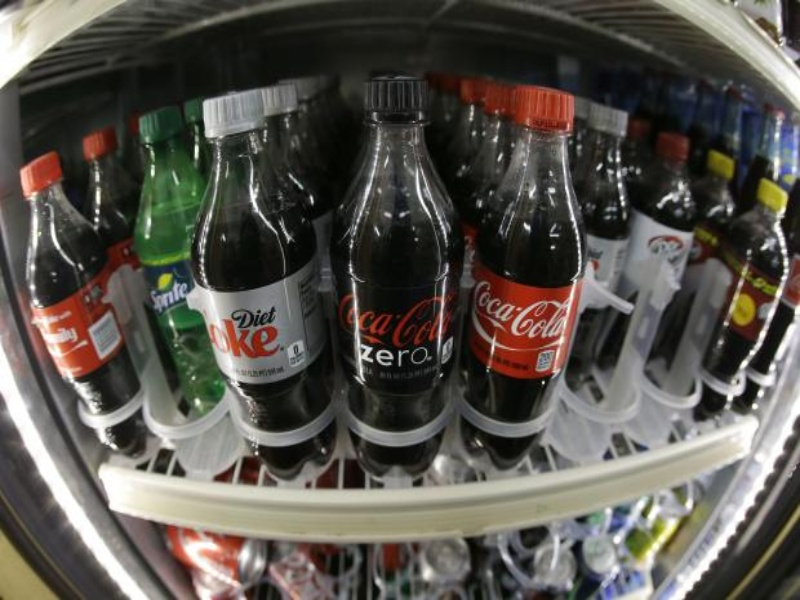Plastic bottle: (161, 78, 376, 488), (313, 57, 480, 484), (3, 149, 192, 492), (454, 76, 604, 448), (72, 91, 259, 388), (690, 140, 791, 441), (555, 83, 643, 413), (611, 112, 711, 400)
